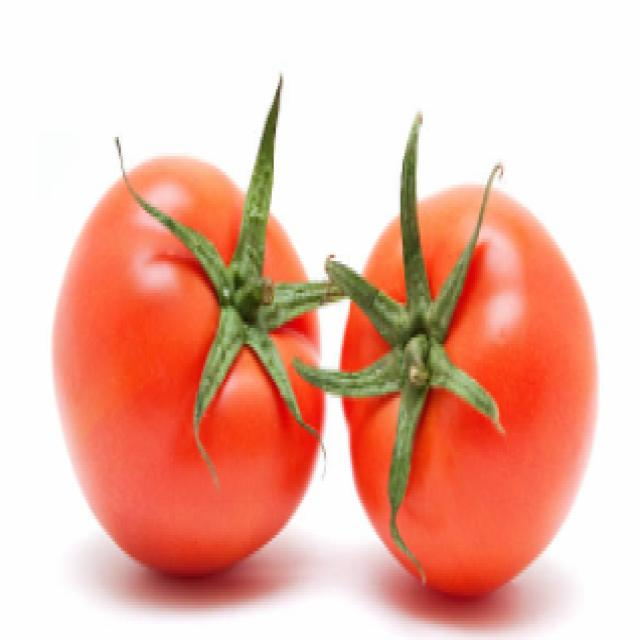Tomato: (42, 112, 322, 558), (336, 165, 598, 591)
